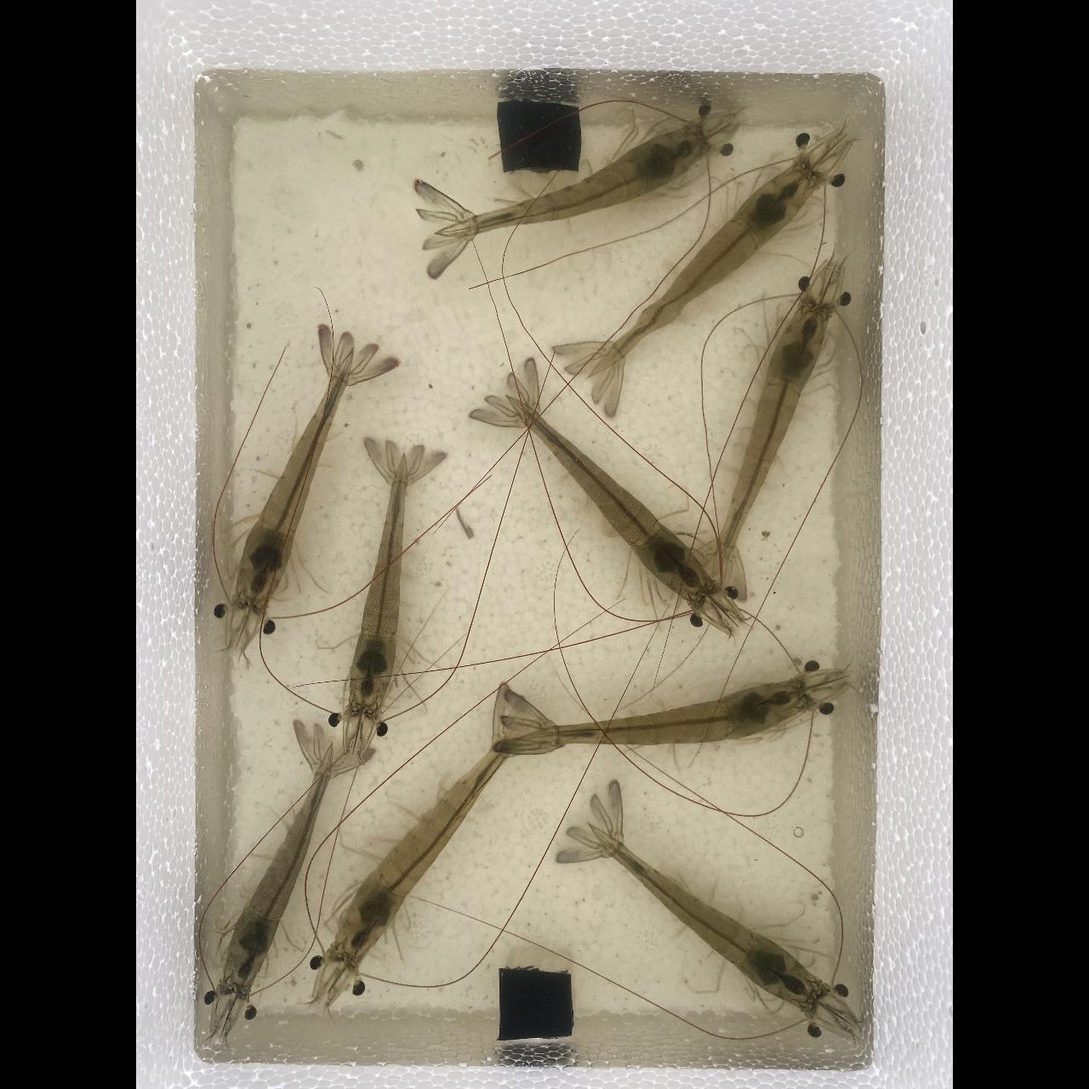box: (499, 99, 582, 168), (499, 968, 573, 1040)
top_shrimp: (594, 163, 817, 373), (335, 738, 521, 963), (517, 396, 715, 602), (594, 827, 818, 1006), (716, 305, 829, 570), (442, 124, 706, 237), (238, 354, 354, 604), (225, 749, 335, 990), (516, 682, 807, 749), (351, 459, 405, 713)
